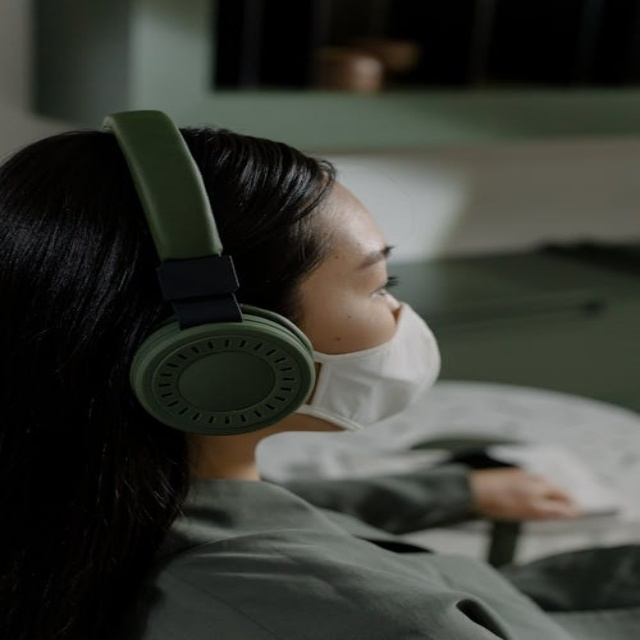Mascara: (294, 302, 446, 433)
Sin_gafas: (328, 242, 416, 313)
Sin_guantes: (470, 466, 587, 523)
